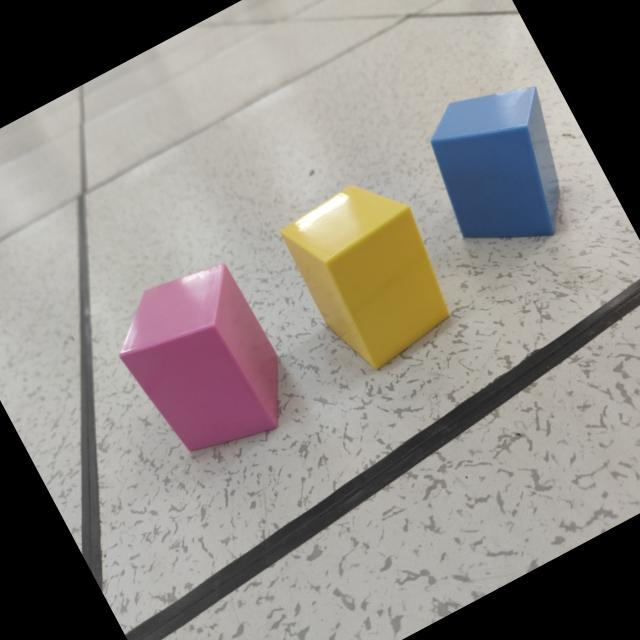blue: (431, 88, 561, 242)
pink: (119, 263, 280, 455)
yellow: (280, 186, 450, 371)
